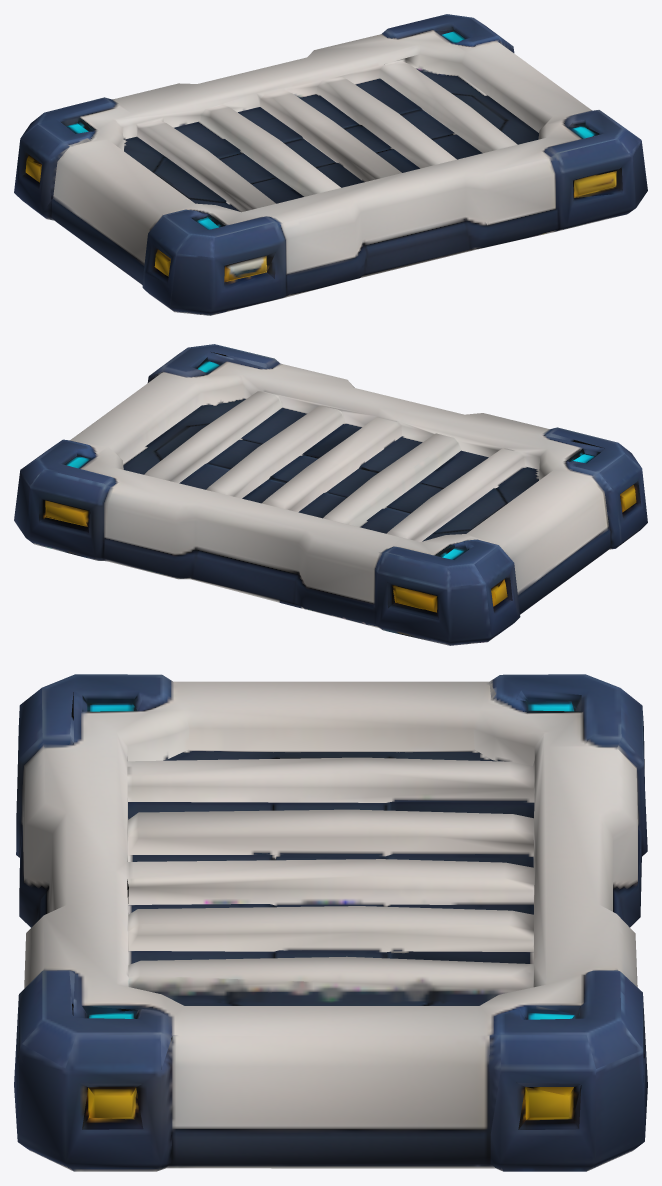
File: cryo-trench-cover_LOD0.glb
The picture shows the model from 3 angles, top to bottom: view 1: azimuth 30°, elevation 25°; view 2: azimuth 150°, elevation 25°; view 3: azimuth 270°, elevation 25°; orthographic projection. The views are drawn at different scales.
Visible parts, largest first — view 1: cryo-trench-cover_LOD0; view 2: cryo-trench-cover_LOD0; view 3: cryo-trench-cover_LOD0.
Part boxes in pixels (box(x1,y1,x2,y2)): cryo-trench-cover_LOD0: box(14, 14, 647, 315); cryo-trench-cover_LOD0: box(14, 344, 647, 645); cryo-trench-cover_LOD0: box(14, 674, 647, 1171).
Bounding box in the file's own units: 0.8002 × 0.1199 × 0.5425.
1 material, 1 textured.
